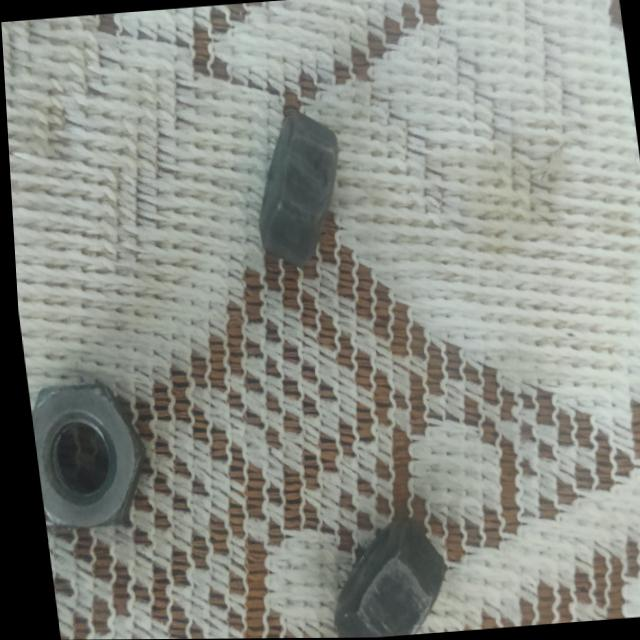disinfected nut: (25, 384, 135, 527), (327, 518, 437, 638), (255, 110, 336, 268)
